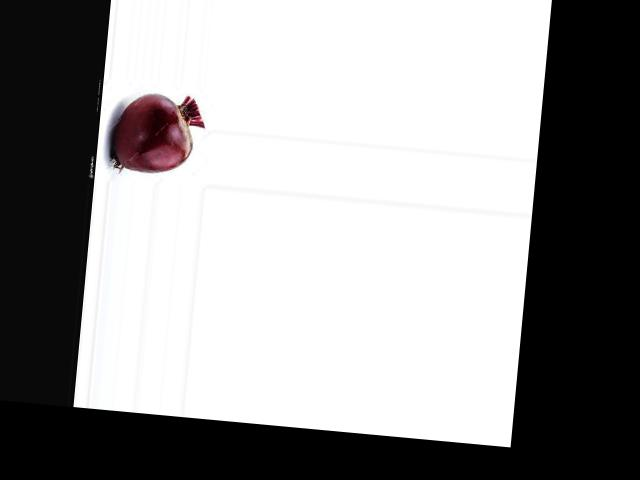beet: (110, 89, 206, 177)
